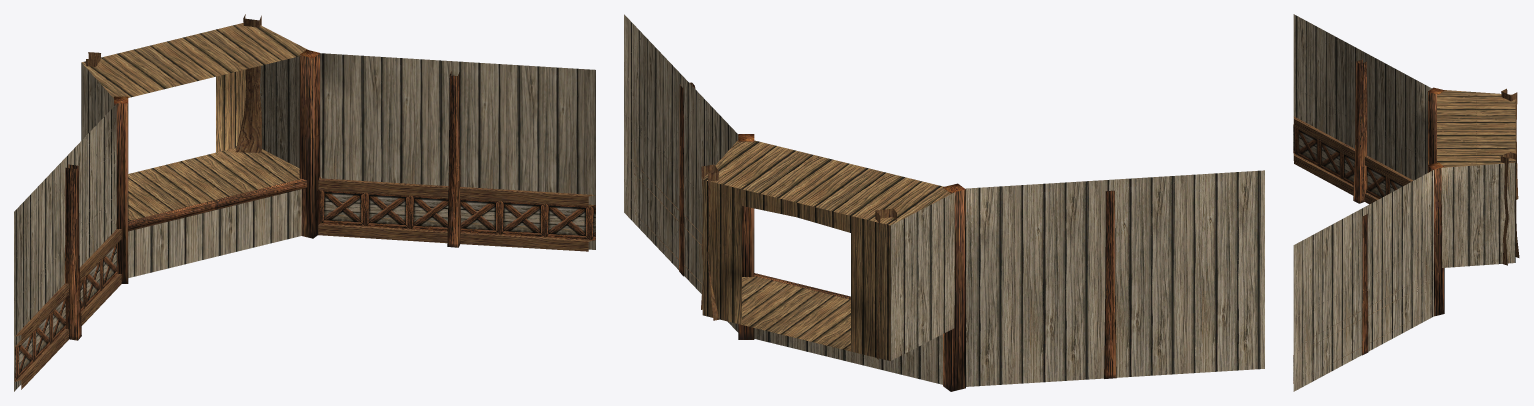
File: LAKETOWN_WAREHOUSE2_PS_WH2_SIDEWALL94848__GX.fbx
The picture shows the model from 3 angles, left to right: view 1: azimuth 30°, elevation 25°; view 2: azimuth 150°, elevation 25°; view 3: azimuth 270°, elevation 25°; orthographic projection. The views are drawn at different scales.
Visible parts, largest first — view 1: LAKETOWN_WAREHOUSE2_PS_WH2_SIDEWALL94848__GX; view 2: LAKETOWN_WAREHOUSE2_PS_WH2_SIDEWALL94848__GX; view 3: LAKETOWN_WAREHOUSE2_PS_WH2_SIDEWALL94848__GX.
Boxes of the visible parts, x1,y1,x2,y2 form: LAKETOWN_WAREHOUSE2_PS_WH2_SIDEWALL94848__GX: (14, 14, 595, 391); LAKETOWN_WAREHOUSE2_PS_WH2_SIDEWALL94848__GX: (624, 14, 1264, 391); LAKETOWN_WAREHOUSE2_PS_WH2_SIDEWALL94848__GX: (1293, 14, 1519, 391).
Size of the model in its own units: 176348 by 54519 by 72837.
Materials: 8 (8 with a texture image).
